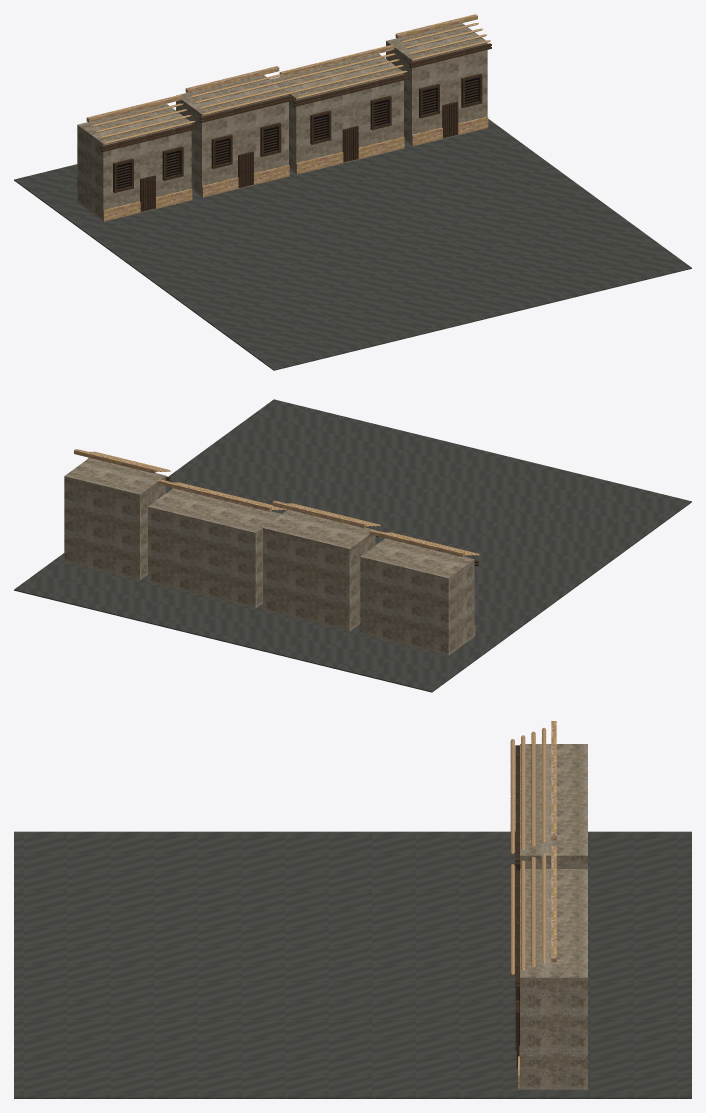
Rendered from ENV_Neighborhood_Lane.glb.
3 renders of one model, top to bottom at view 1: azimuth 30°, elevation 25°; view 2: azimuth 150°, elevation 25°; view 3: azimuth 270°, elevation 25°, orthographic. The views are drawn at different scales.
Visible parts, largest first — view 1: ENV_Neighborhood_Lane; view 2: ENV_Neighborhood_Lane; view 3: ENV_Neighborhood_Lane.
Boxes of the visible parts, x1,y1,x2,y2 form: ENV_Neighborhood_Lane: (14,14,691,370); ENV_Neighborhood_Lane: (14,399,691,692); ENV_Neighborhood_Lane: (14,721,691,1098).
Size of the model in its own units: 26 by 6.2 by 28.
Materials: 5 (5 with a texture image).
